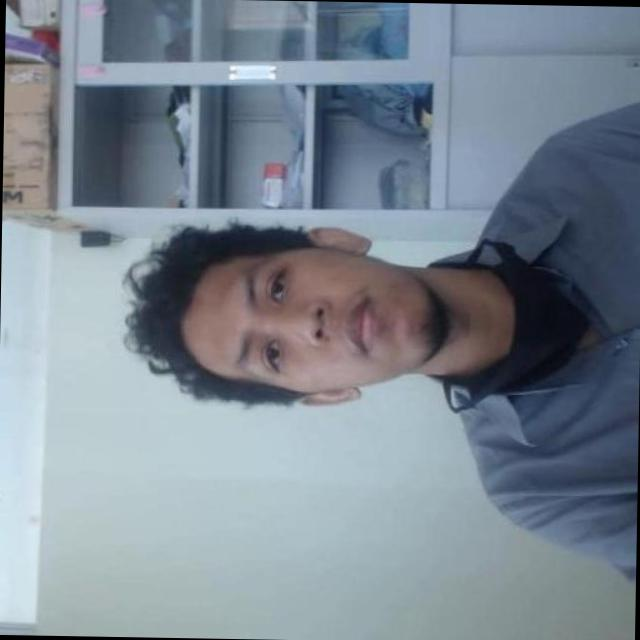bareface: (180, 229, 468, 402)
